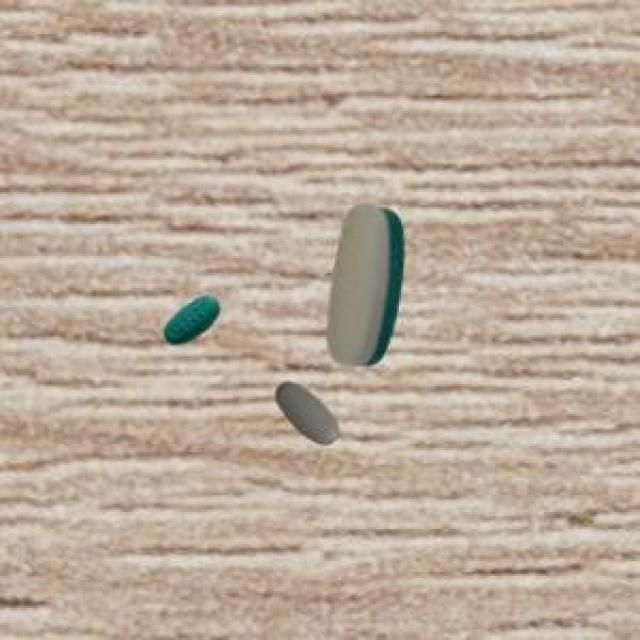Neozep: (316, 192, 411, 382), (262, 378, 348, 450), (157, 291, 226, 355)
